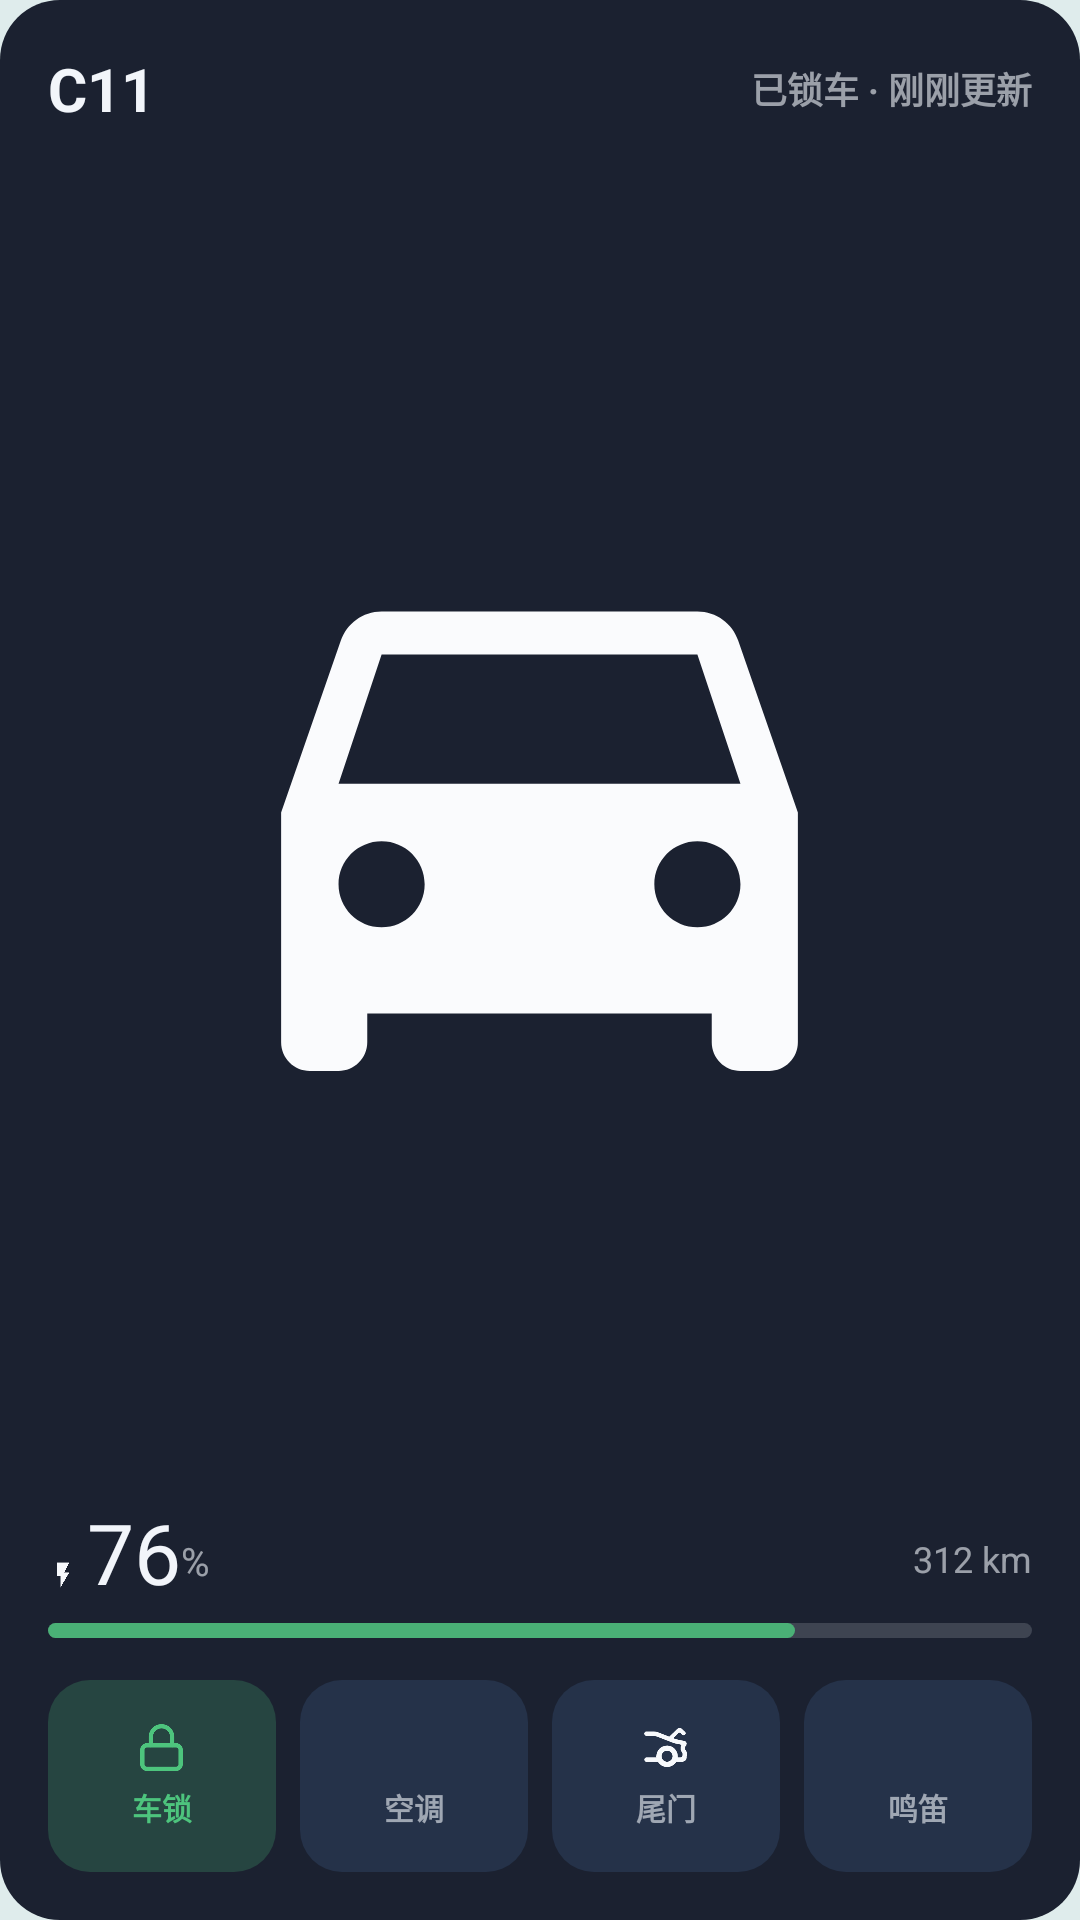

Icon click points for this 1080x1920 phone screenshot, format (x=x, y=y):
widget bolt: (x=63, y=1574)
